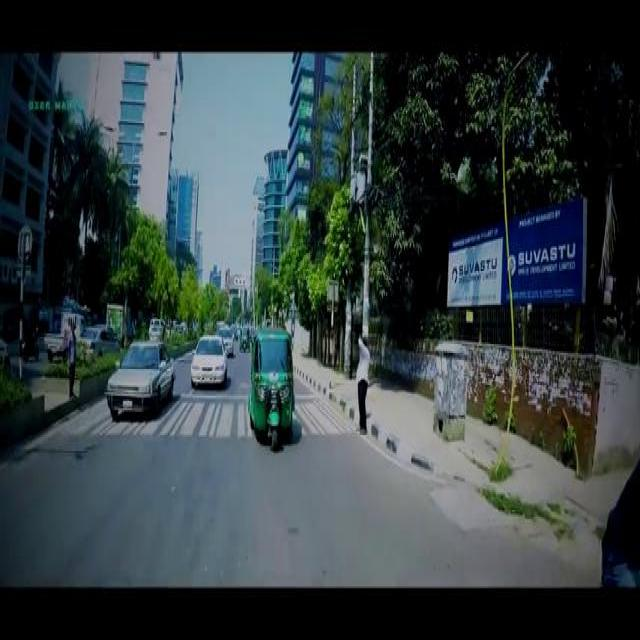vehicle: (105, 337, 177, 419), (249, 326, 296, 449), (44, 309, 85, 354), (190, 333, 226, 384), (75, 325, 120, 356), (105, 302, 131, 333), (147, 317, 167, 340), (220, 328, 234, 353), (238, 326, 248, 355)
